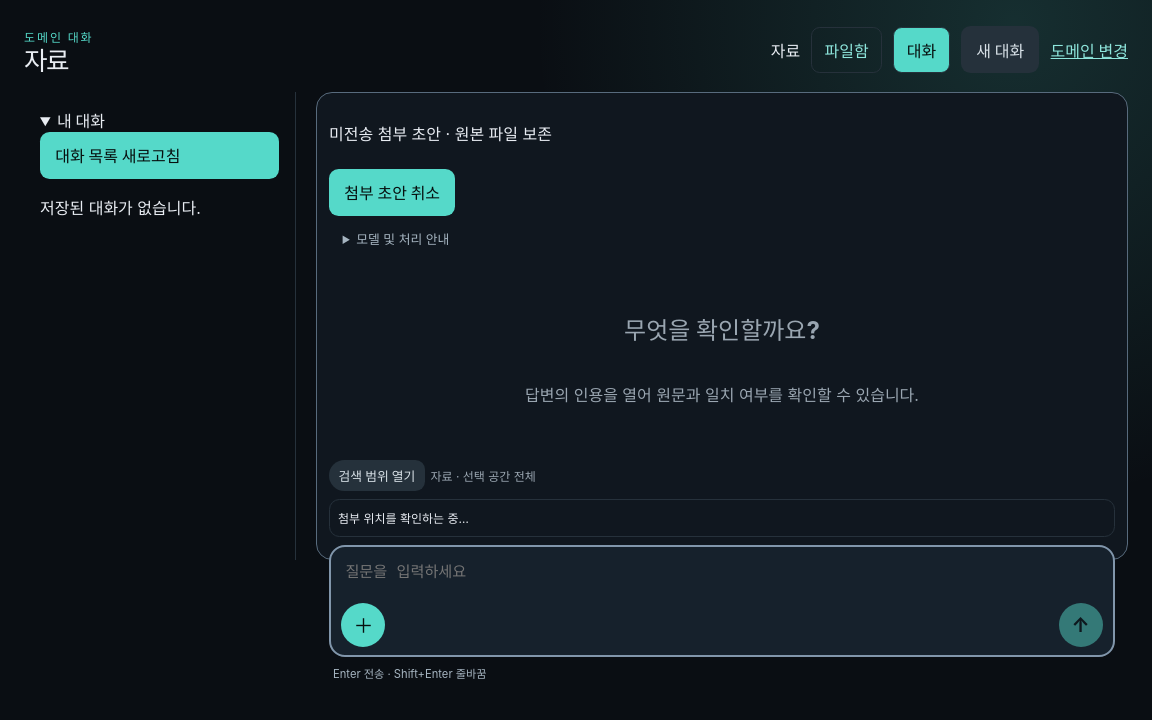
F6 preserves original UUID and full payload on same-query Send after ambiguous POST404/not_found
Expected: the text "미전송 첨부 초안 · 원본 파일 보존" is shown, left=329, top=124, right=552, bottom=144
Type "첫 질문" into the text box labelled "질문" at (722, 575), box left=341, top=555, right=1103, bottom=595
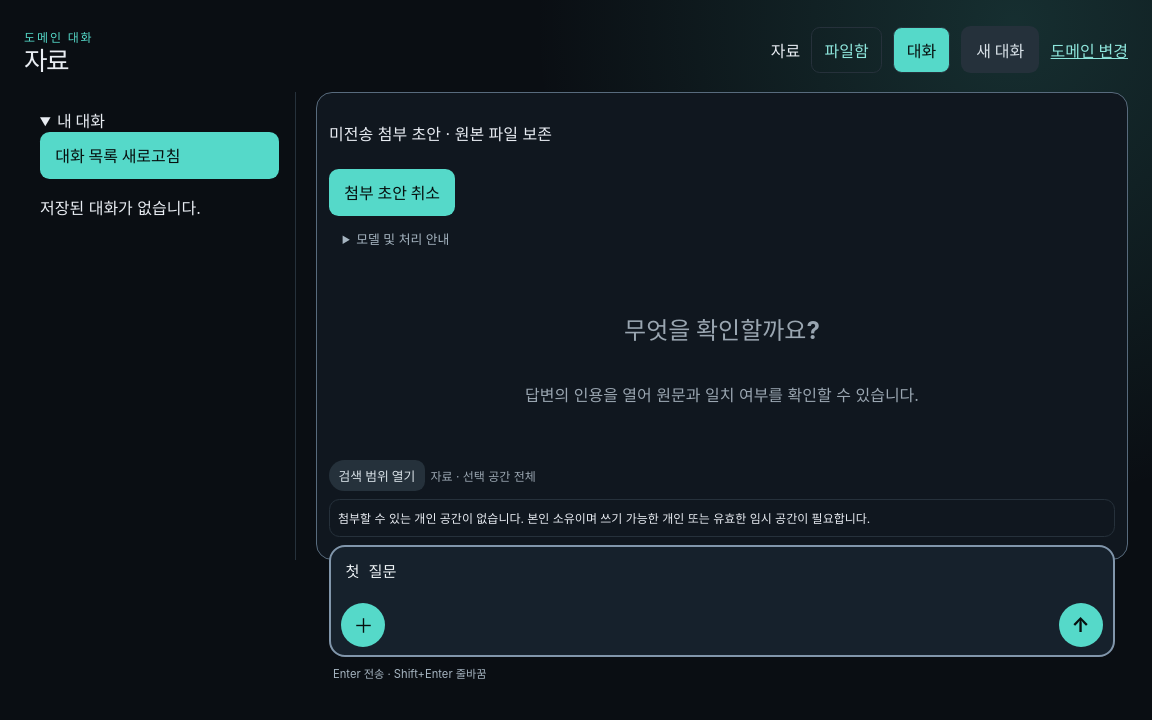
Click the button named "질문 보내기" at (1081, 625), box left=1059, top=603, right=1103, bottom=647
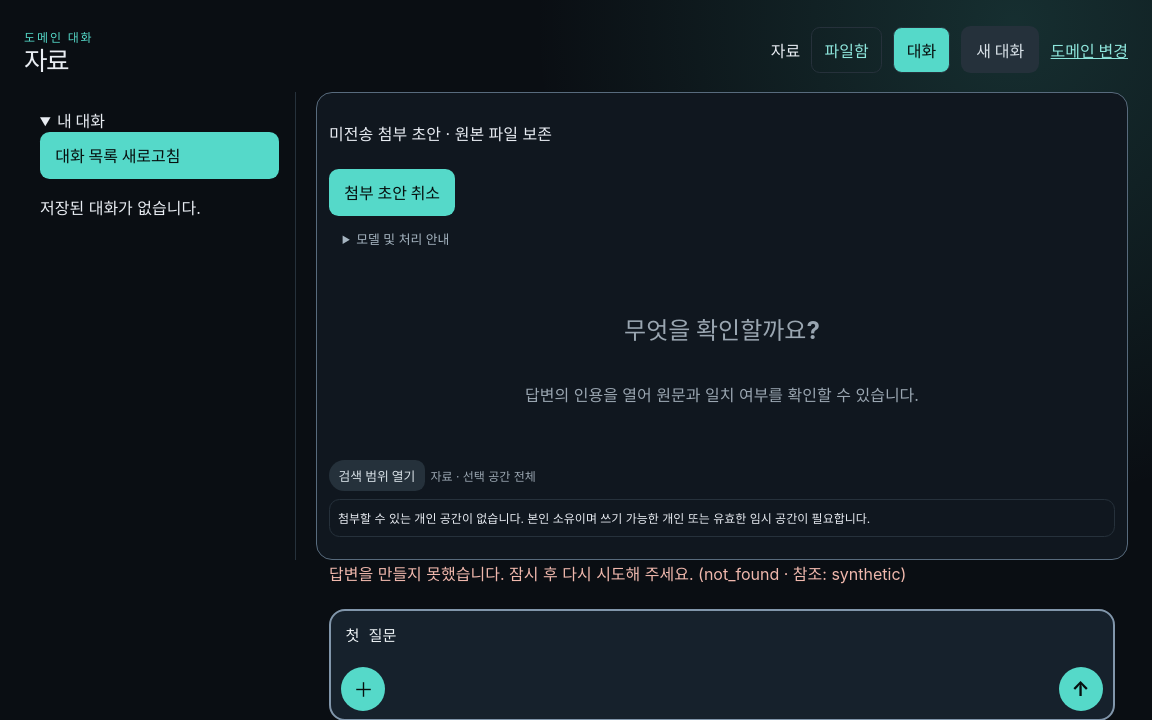
Click the button named "질문 보내기" at (1081, 689), box left=1059, top=667, right=1103, bottom=711
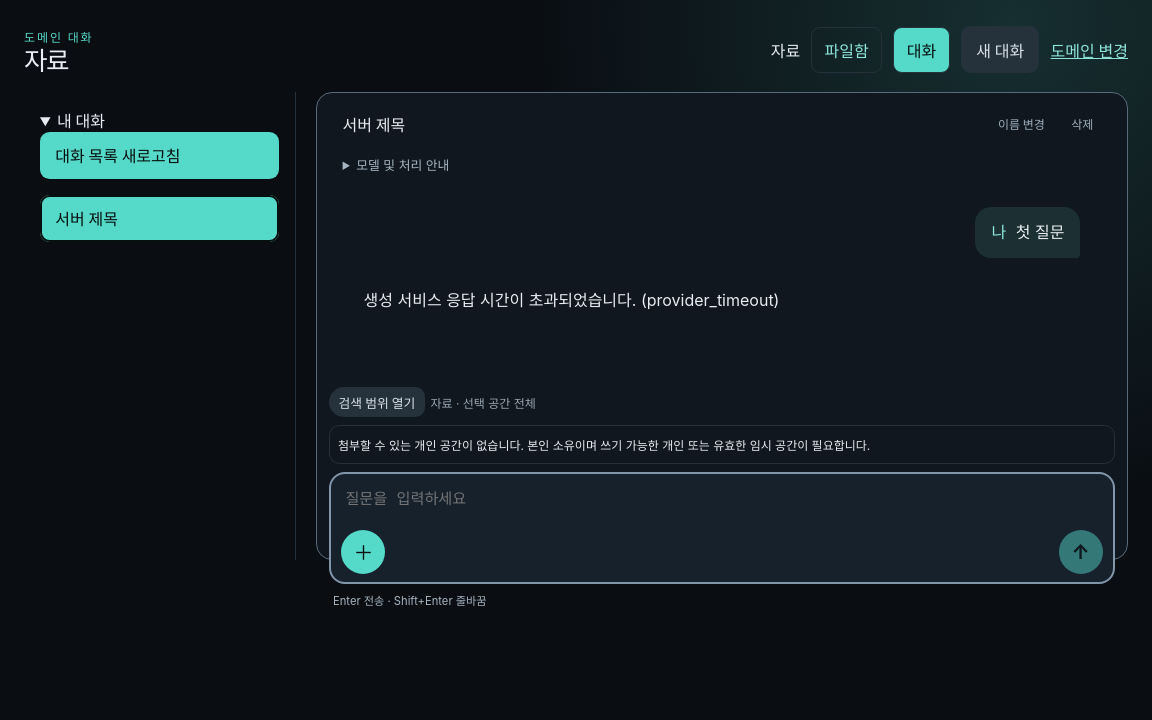
Expected: the heading "서버 제목" is shown, left=343, top=115, right=405, bottom=135
